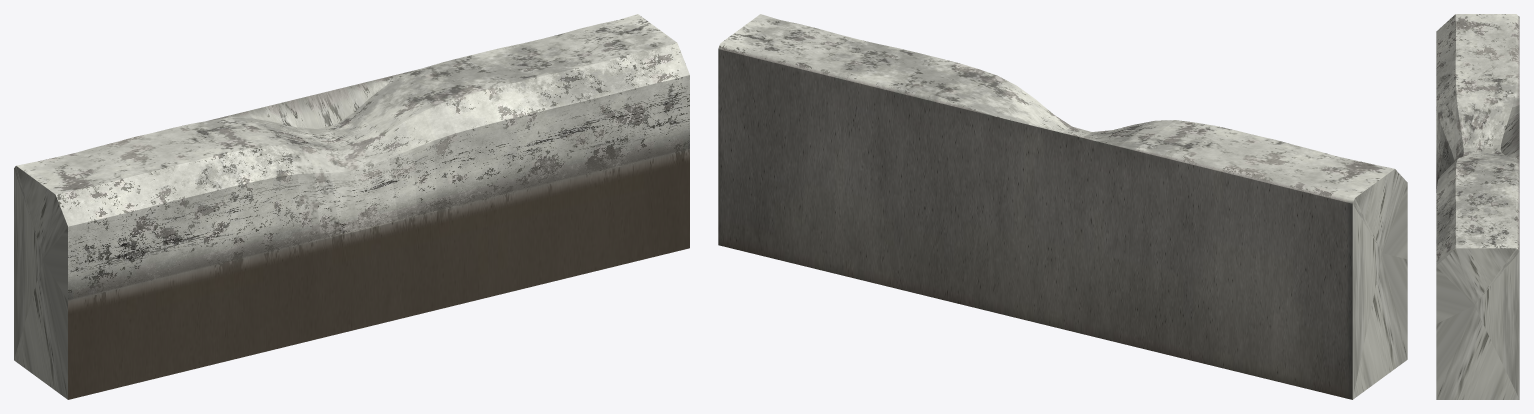
The model's file is curb_broken_white_web.glb.
3 renders of one model, left to right at view 1: azimuth 30°, elevation 25°; view 2: azimuth 150°, elevation 25°; view 3: azimuth 270°, elevation 25°, orthographic. The views are drawn at different scales.
Visible parts, largest first — view 1: curb_broken_white_Mesh; view 2: curb_broken_white_Mesh; view 3: curb_broken_white_Mesh.
Part boxes in pixels (x1,y1,x2,y2): curb_broken_white_Mesh: (14, 14, 689, 399); curb_broken_white_Mesh: (718, 14, 1407, 399); curb_broken_white_Mesh: (1436, 14, 1519, 399).
Bounding box in the file's own units: 0.995 × 0.3 × 0.15.
1 material, 1 textured.
